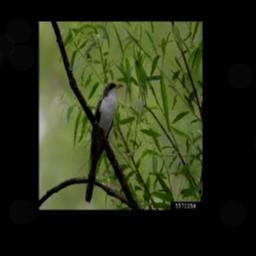Cuckoo: (84, 82, 122, 202)
